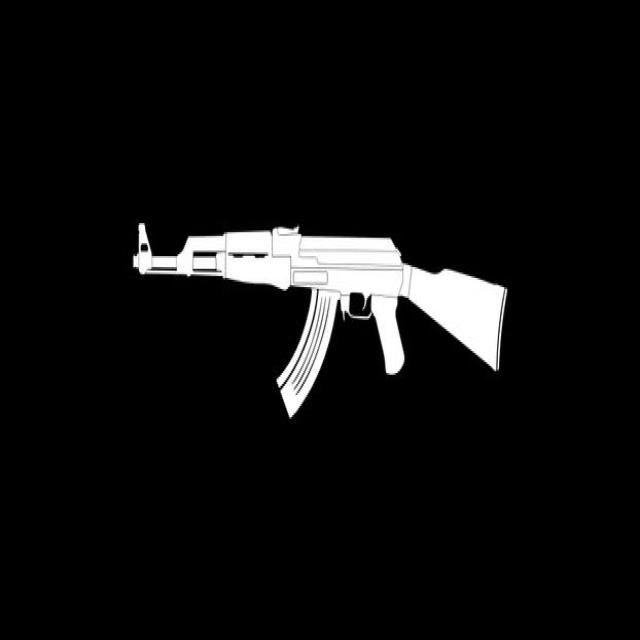firearm: (132, 218, 508, 417)
